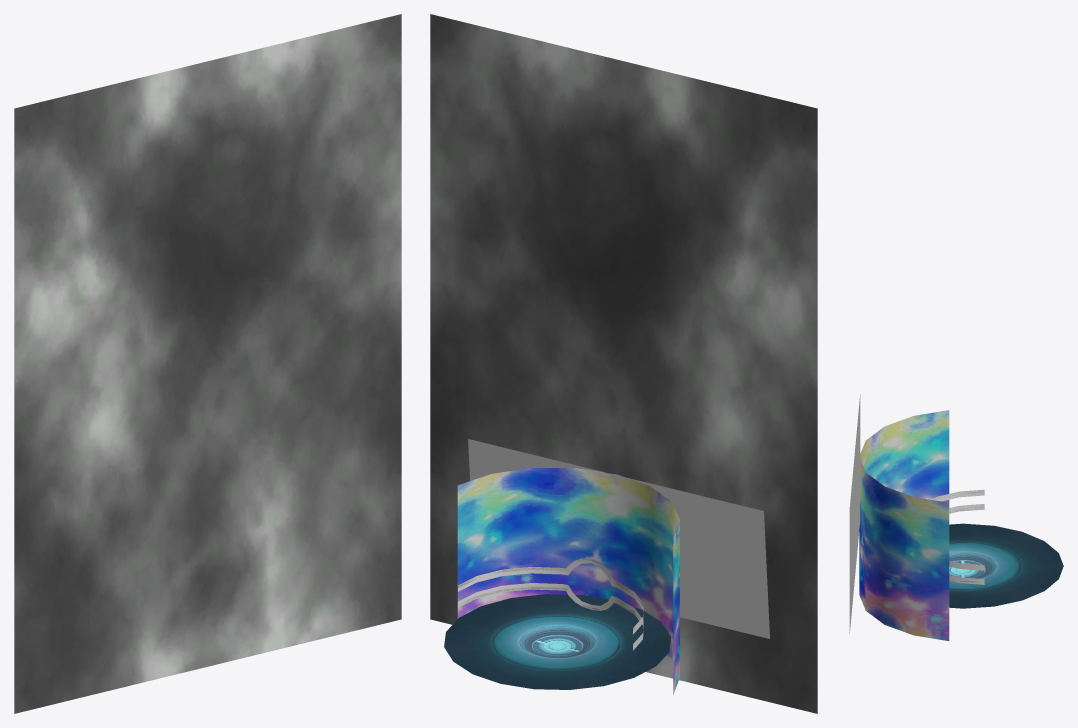
Rendered from EvolutionPanel.fbx.
3 views of the same model, side by side, from view 1: azimuth 30°, elevation 25°; view 2: azimuth 150°, elevation 25°; view 3: azimuth 270°, elevation 25° (orthographic). The views are drawn at different scales.
Parts seen in each view (by area): view 1: UV_yanwu (2); view 2: UV_yanwu (2), JinHuaChangJing_01_group3, JinHuaChangJing_01_group1, Plane, guangjian2, JinHuaChangJing_01_group2; view 3: JinHuaChangJing_01_group3, JinHuaChangJing_01_group1, Plane, guangjian2.
Part boxes in pixels (x1,y1,x2,y2): UV_yanwu (2): (14, 14, 401, 713); UV_yanwu (2): (430, 14, 817, 713); JinHuaChangJing_01_group3: (457, 468, 679, 694); JinHuaChangJing_01_group1: (444, 594, 670, 689); Plane: (468, 439, 769, 638); guangjian2: (458, 558, 643, 650); JinHuaChangJing_01_group2: (458, 558, 643, 649); JinHuaChangJing_01_group3: (859, 410, 949, 640); JinHuaChangJing_01_group1: (949, 523, 1063, 608); Plane: (849, 394, 860, 633); guangjian2: (931, 489, 984, 584).
Size of the model in its own units: 24.6 by 36.72 by 13.57.
